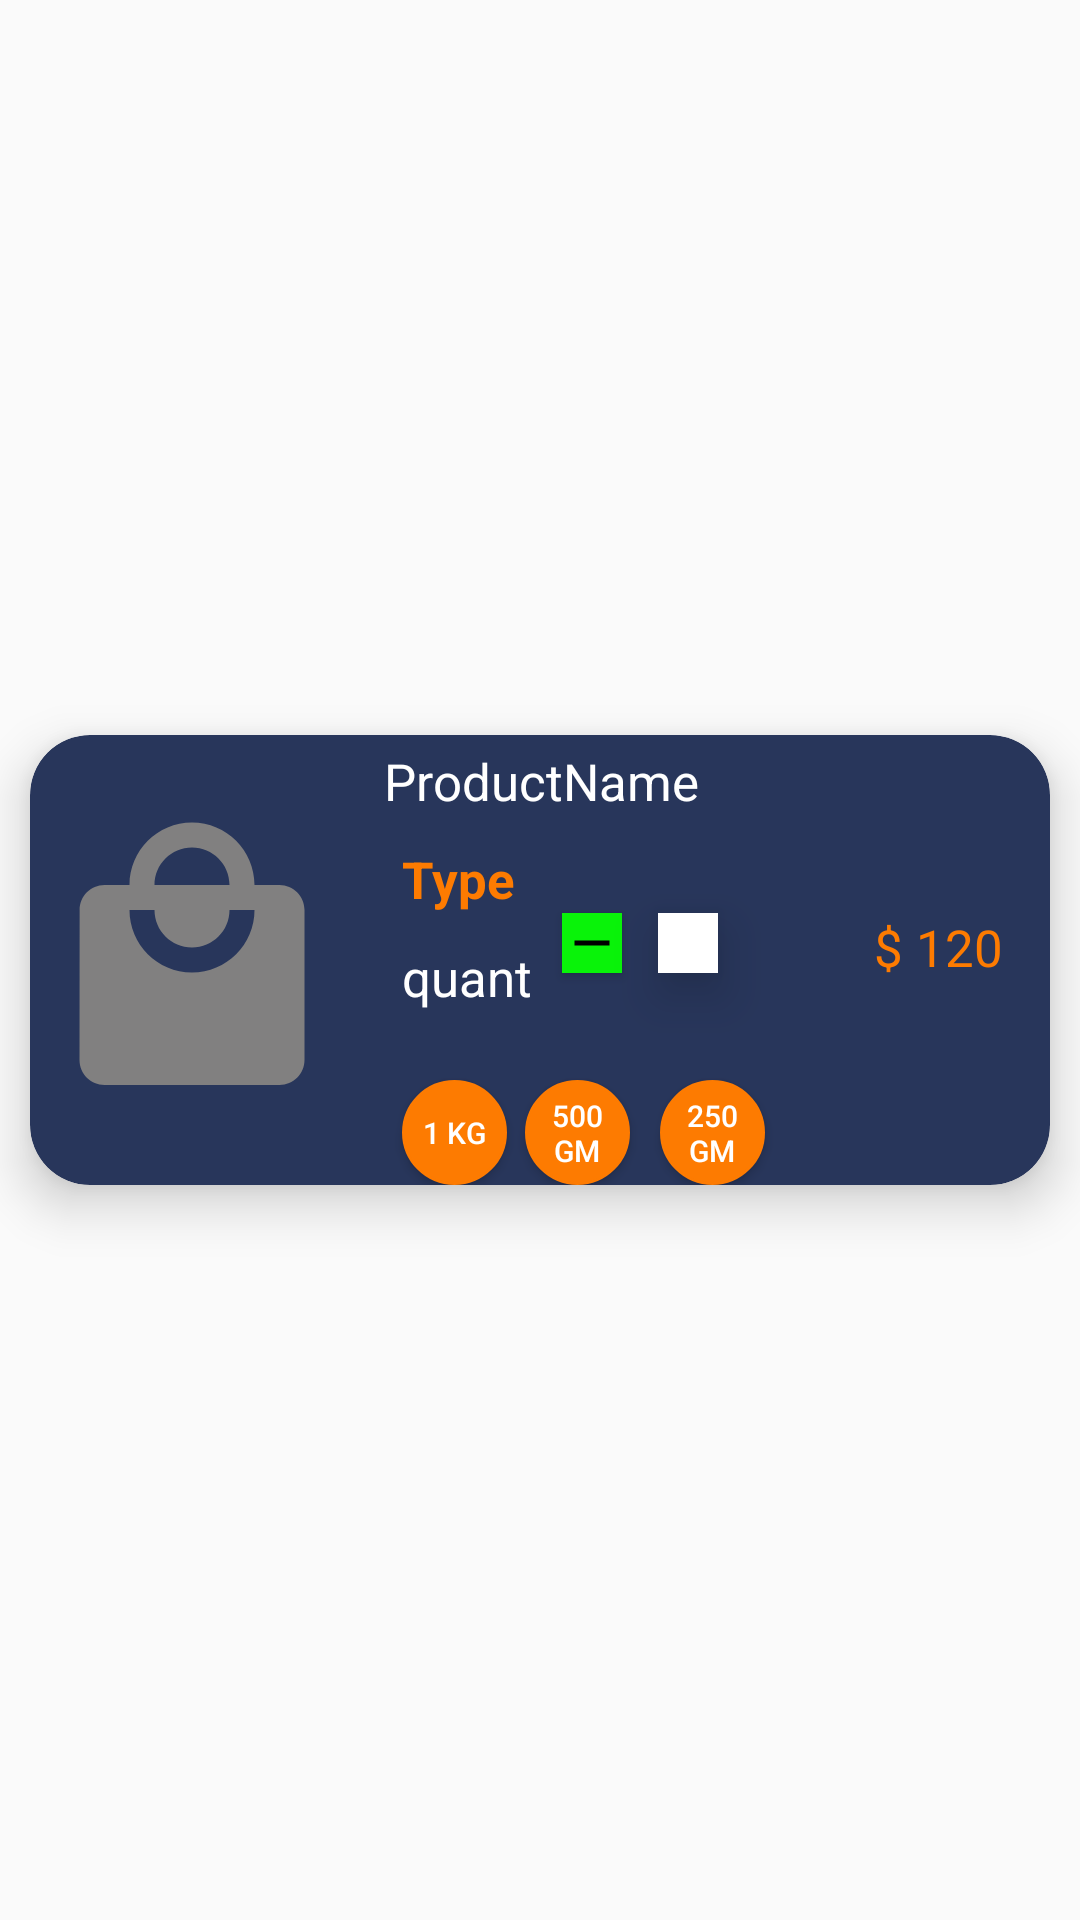

Screen size 1080x1920. Icon name, then its box in pixels as (x1, y1, x2, y2):
local mall: (79, 822, 305, 1085)
minusbtn: (562, 913, 622, 973)
